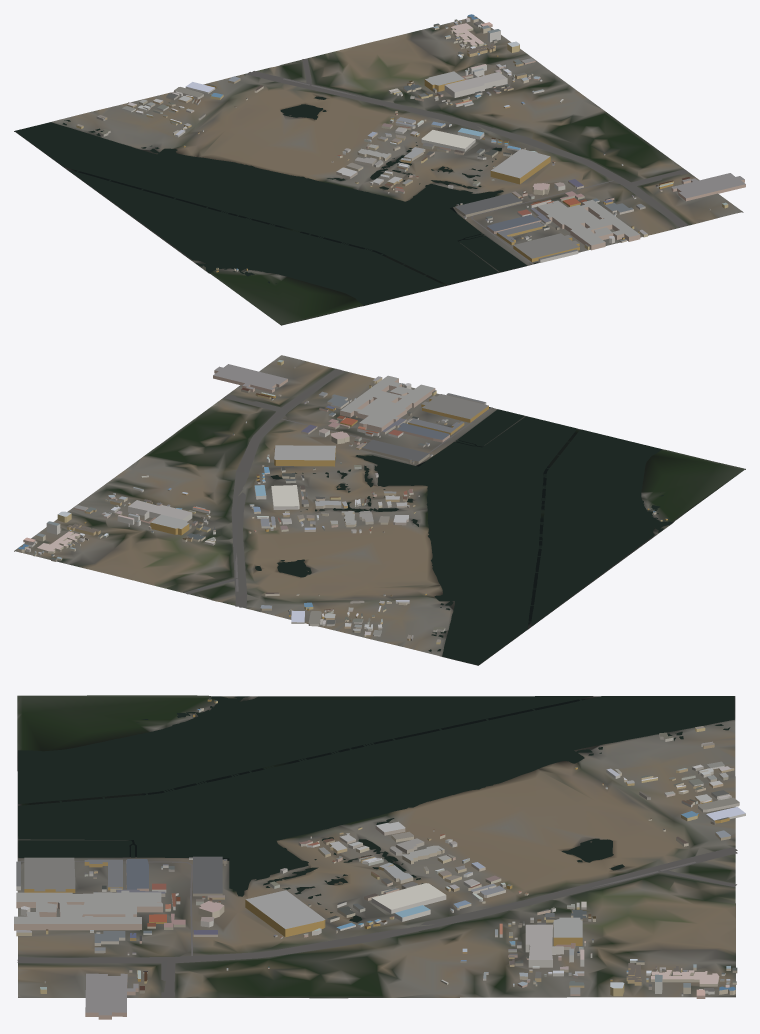
The picture shows the model from 3 angles, top to bottom: view 1: azimuth 30°, elevation 25°; view 2: azimuth 150°, elevation 25°; view 3: azimuth 270°, elevation 25°; orthographic projection. The views are drawn at different scales.
Parts seen in each view (by area): view 1: ground, water, buildings, roads; view 2: ground, water, buildings, roads; view 3: ground, water, buildings, roads.
Boxes of the visible parts, x1,y1,x2,y2 form: ground: (14, 16, 743, 325); water: (15, 96, 537, 305); buildings: (76, 14, 745, 272); roads: (246, 58, 689, 264); ground: (14, 355, 745, 665); water: (255, 407, 672, 665); buildings: (18, 360, 667, 644); roads: (184, 368, 492, 607); ground: (17, 695, 735, 998); water: (18, 696, 734, 922); buildings: (14, 698, 745, 1019); roads: (17, 847, 737, 997).
Bounding box in the file's own units: 1499 × 34.22 × 1428.
